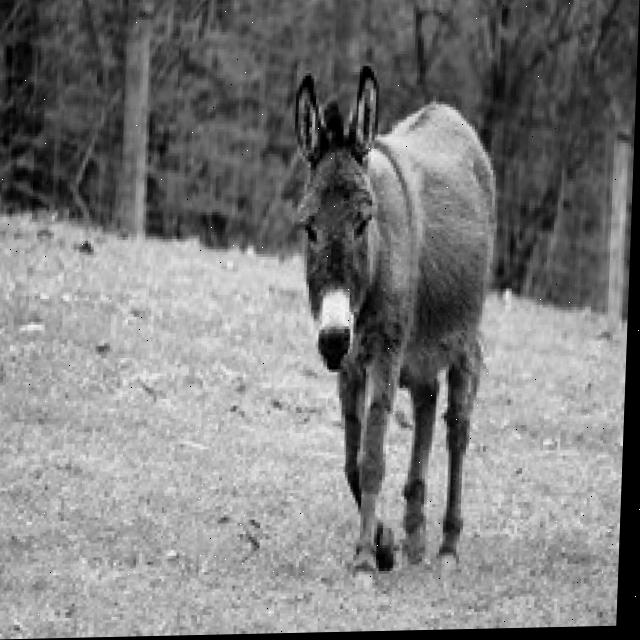Donkey: (272, 60, 503, 593)
